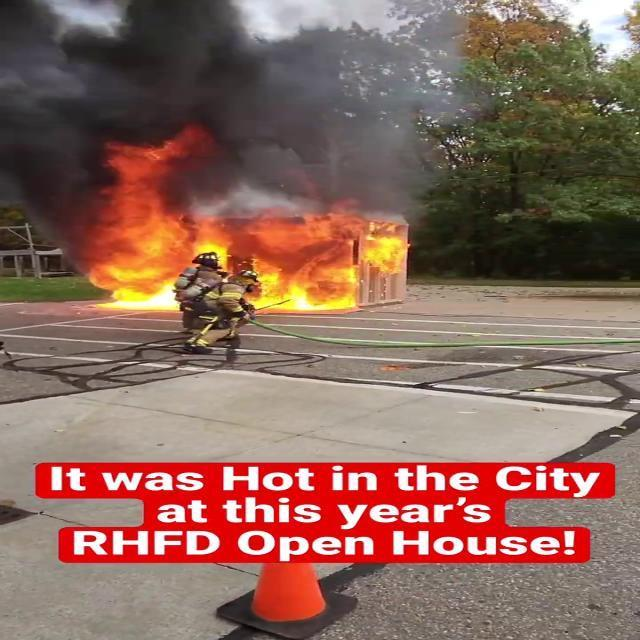Fire: (76, 185, 425, 312)
Smoke: (0, 0, 473, 183)
